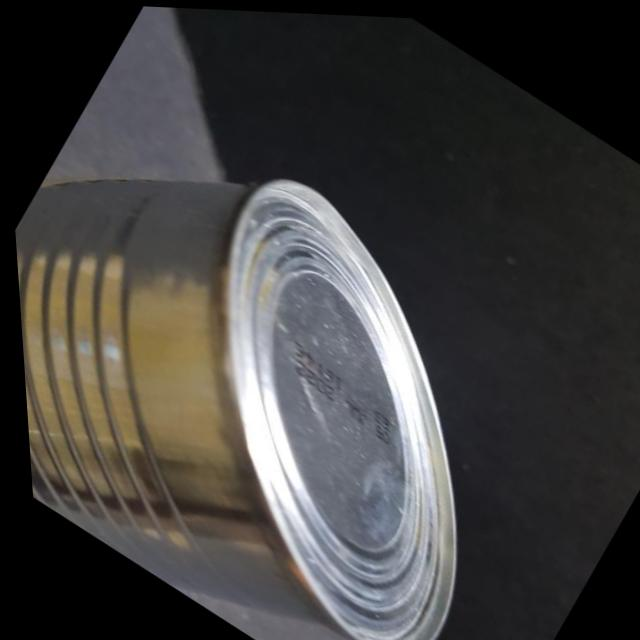metal: (0, 23, 632, 639)
